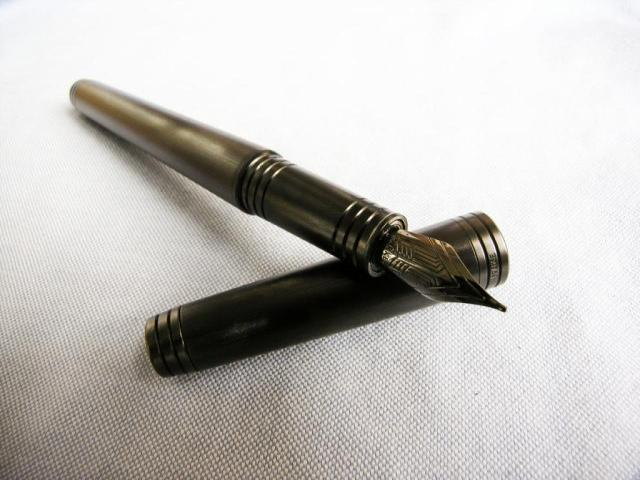PEN: (54, 5, 522, 387)
